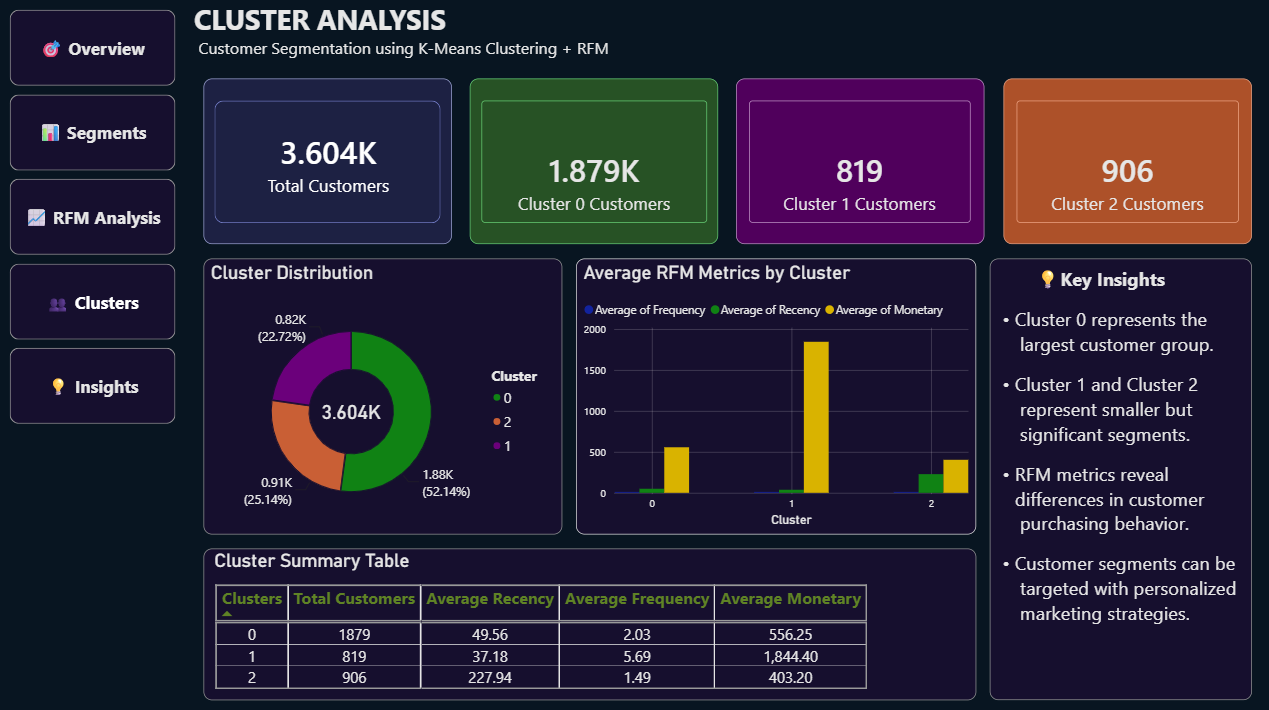

What the dashboard file says about the page in this screenshot:
{"tool":"powerbi","page":{"name":"👥 Clusters","canvas":[1480,830],"ordinal":3},"visuals":[{"type":"pageNavigator","box":[16,16,192,480],"z":0},{"type":"textbox","box":[224,0,640,80],"z":1000},{"type":"cardVisual","fields":{"Data":["Count(Customer_Segments.CustomerID)"],"Rows":["Customer_Segments.Cluster"]},"box":[858.7,96,288,192],"z":2000},{"type":"donutChart","title":"Cluster Distribution","fields":{"Category":["Customer_Segments.Cluster"],"Y":["Count(Customer_Segments.CustomerID)"]},"box":[240,304,416,320],"z":3000},{"type":"clusteredColumnChart","title":"Average RFM Metrics by Cluster","fields":{"Category":["Customer_Segments.Cluster"],"Y":["Avg(Customer_Segments.Frequency)","Avg(Customer_Segments.Recency)","Avg(Customer_Segments.Monetary)"]},"box":[672,304,464,320],"z":4000},{"type":"tableEx","title":"Cluster Summary Table","fields":{"Values":["Customer_Segments.Cluster","Customer_Segments.CustomerID","Avg(Customer_Segments.Recency)","Avg(Customer_Segments.Frequency)","Avg(Customer_Segments.Monetary)"]},"box":[240,640,896,176],"z":5000},{"type":"textbox","box":[1152,304,304,512],"z":6000},{"type":"cardVisual","fields":{"Data":["Count(Customer_Segments.CustomerID)"],"Rows":["Customer_Segments.Cluster"]},"box":[1168,96,288,192],"z":7000},{"type":"cardVisual","fields":{"Data":["Count(Customer_Segments.CustomerID)"],"Rows":["Customer_Segments.Cluster"]},"box":[549.3,96,288,192],"z":8000},{"type":"cardVisual","fields":{"Data":["Count(Customer_Segments.CustomerID)"]},"box":[240,96,288,192],"z":9000}]}

Visuals, with their boxes in screenshot pixels (x1, y1, x2, y2), scaled from the page's 1480x830 canvas onto the 1269x710 screenshot:
pageNavigator: (x1=14, y1=14, x2=178, y2=424)
textbox: (x1=192, y1=0, x2=741, y2=68)
cardVisual - Count(Customer_Segments.CustomerID) x Customer_Segments.Cluster: (x1=736, y1=82, x2=983, y2=246)
"Cluster Distribution" donutChart: (x1=206, y1=260, x2=562, y2=534)
"Average RFM Metrics by Cluster" clusteredColumnChart: (x1=576, y1=260, x2=974, y2=534)
"Cluster Summary Table" tableEx: (x1=206, y1=547, x2=974, y2=698)
textbox: (x1=988, y1=260, x2=1248, y2=698)
cardVisual - Count(Customer_Segments.CustomerID) x Customer_Segments.Cluster: (x1=1001, y1=82, x2=1248, y2=246)
cardVisual - Count(Customer_Segments.CustomerID) x Customer_Segments.Cluster: (x1=471, y1=82, x2=718, y2=246)
cardVisual - Count(Customer_Segments.CustomerID): (x1=206, y1=82, x2=453, y2=246)
